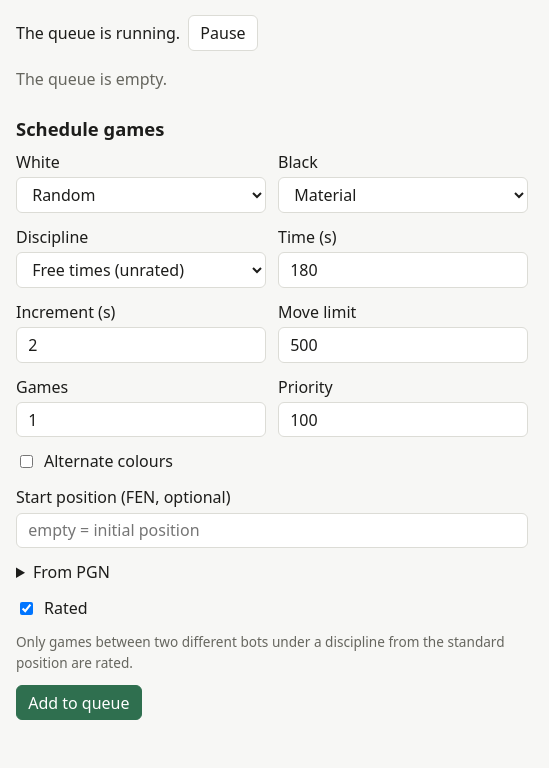
admin games › names the invalid field
This screenshot has width=549, height=768.
(page scrolled)
Type "nonsense" into the field labelled "Start position (FEN, optional)".
click(272, 530); type("nonsense")  # box [16,512,528,548]
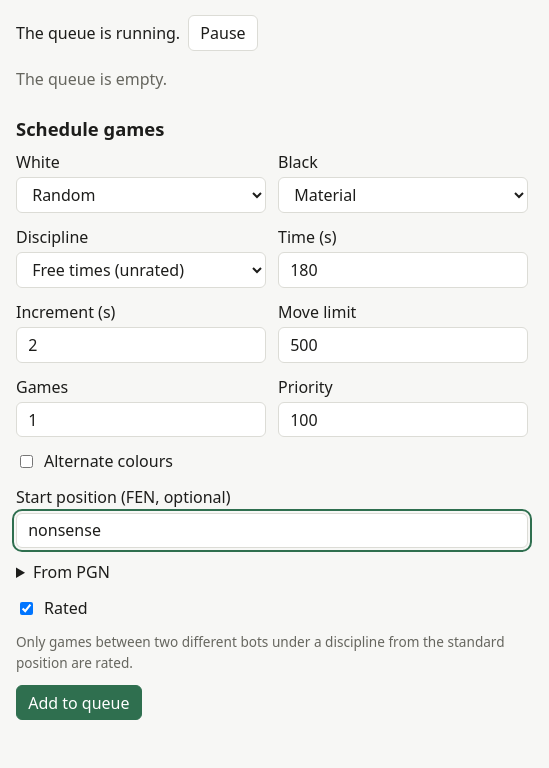
Click the button "Add to queue".
click(79, 703)  # box [16,685,142,720]
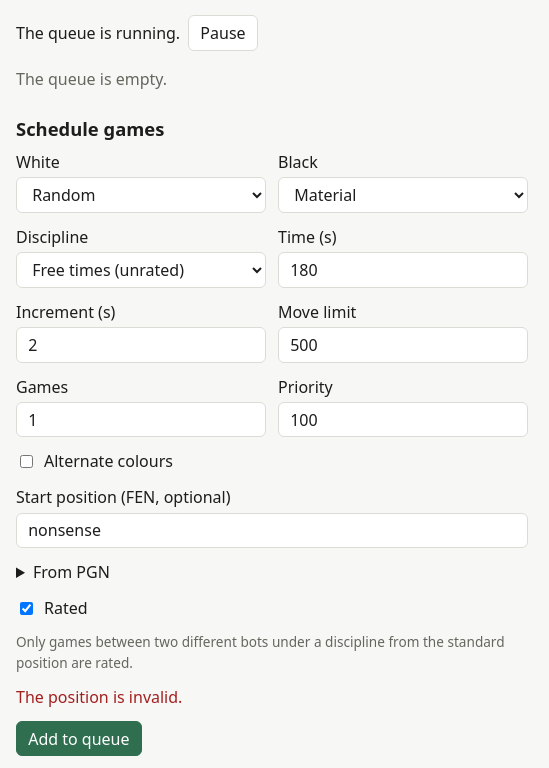
Result: the message reads "The position is invalid." at [16,686,182,708]
